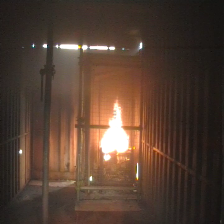fire_h: (100, 93, 132, 153)
fire_l: (116, 154, 131, 164), (103, 154, 112, 162)
